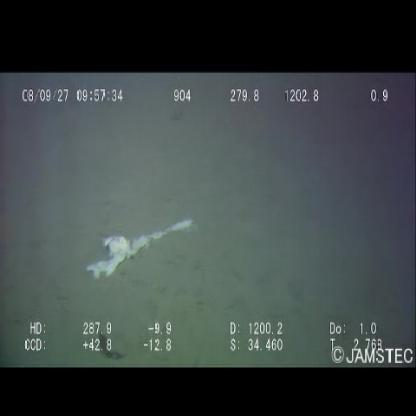Rác: (87, 219, 197, 279)
